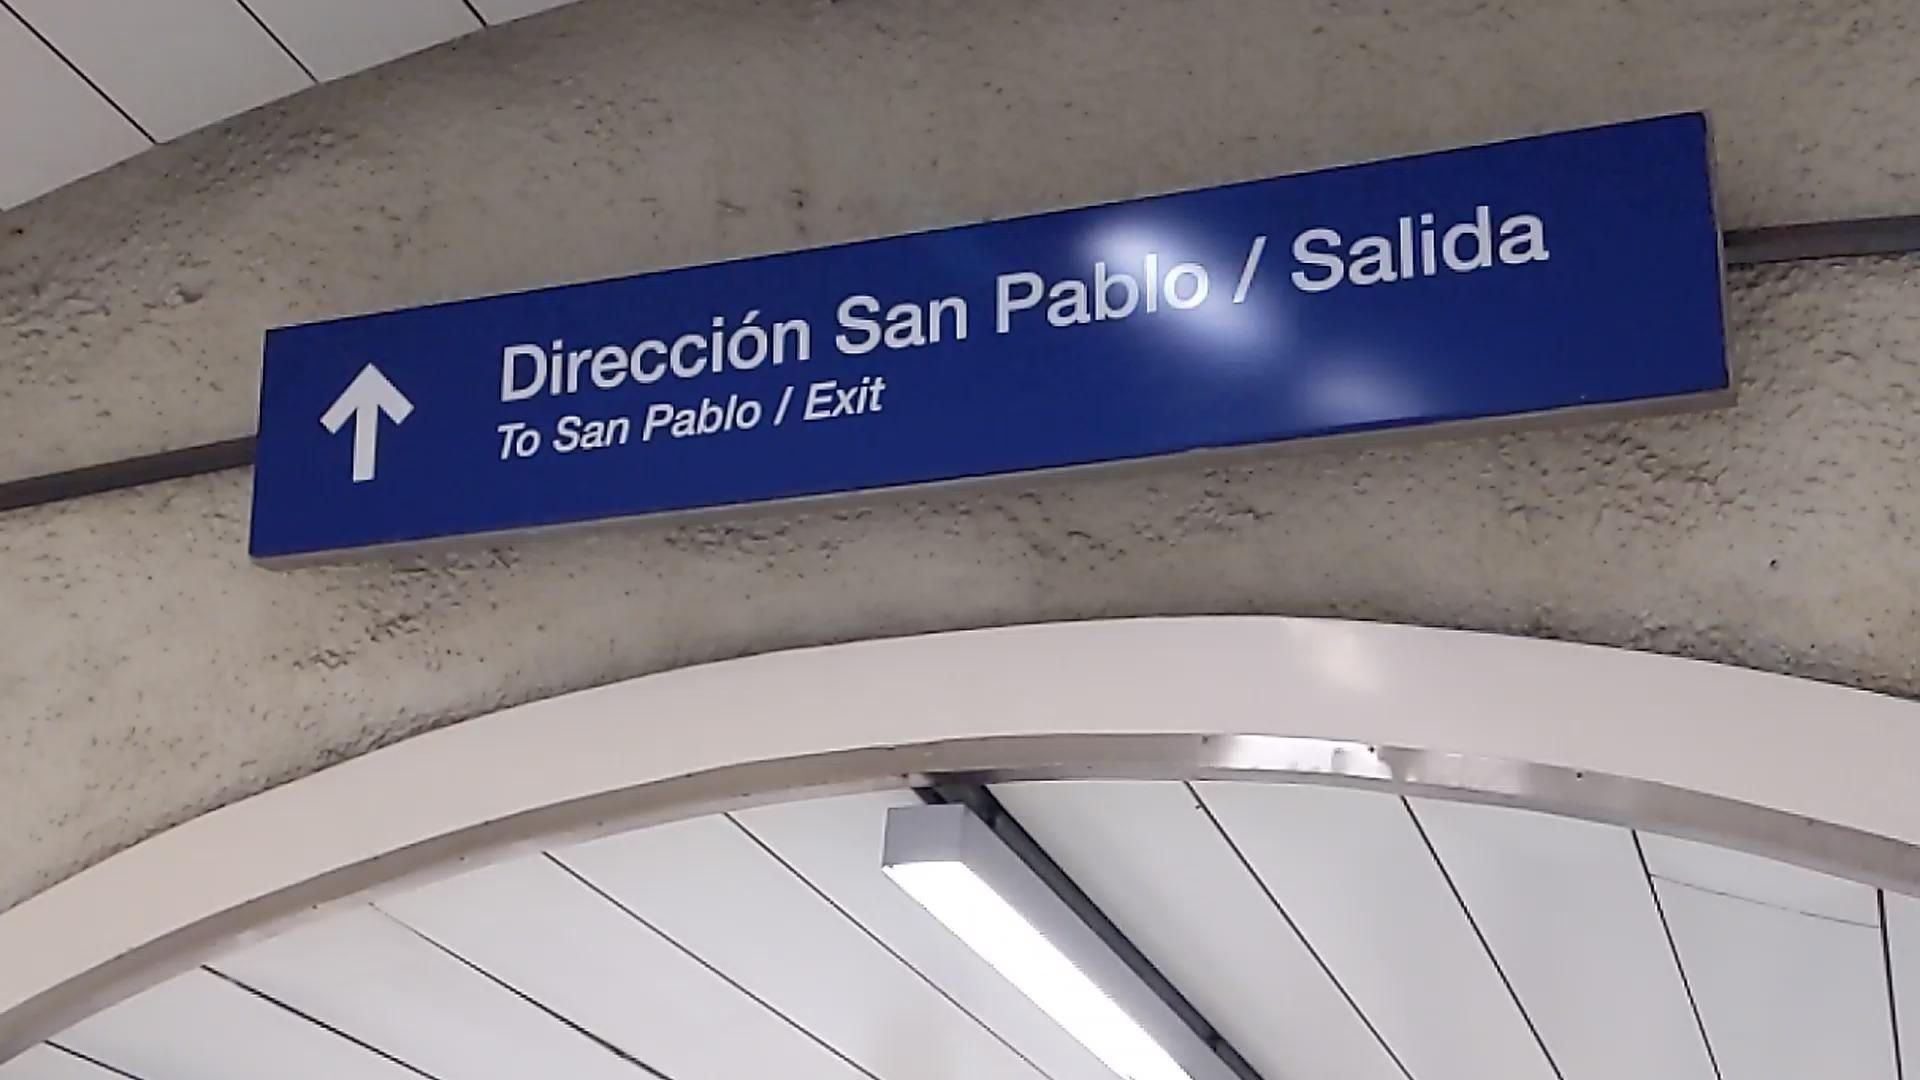up arrow: (319, 359, 419, 487)
